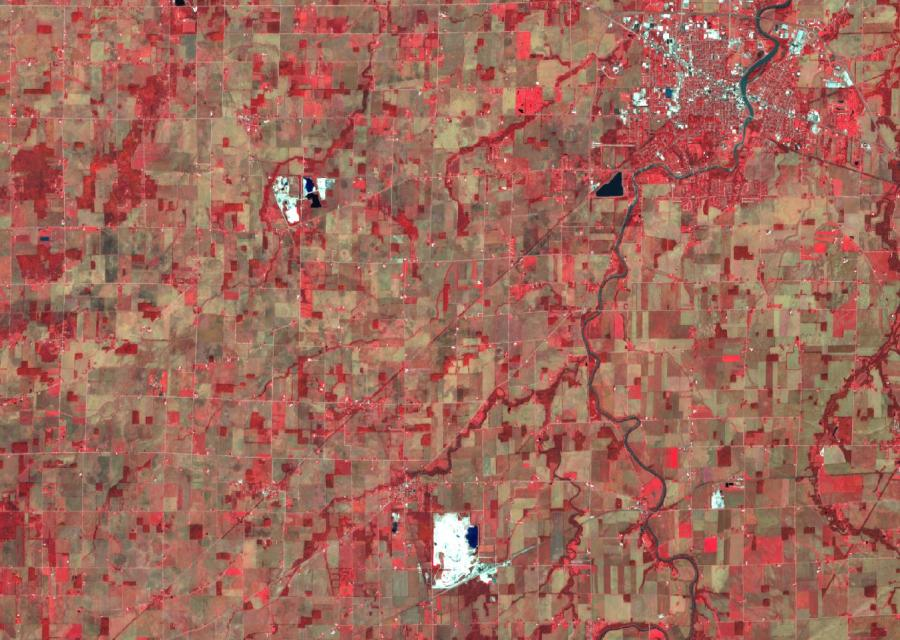Potential Lime Manufacturing Facility: (432, 510, 498, 588)
